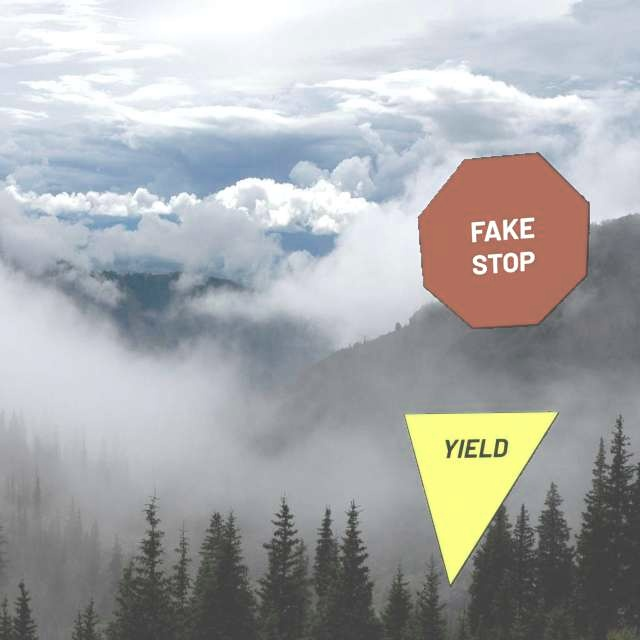FAKE_STOP: (417, 152, 590, 329)
YIELD: (403, 411, 560, 588)
